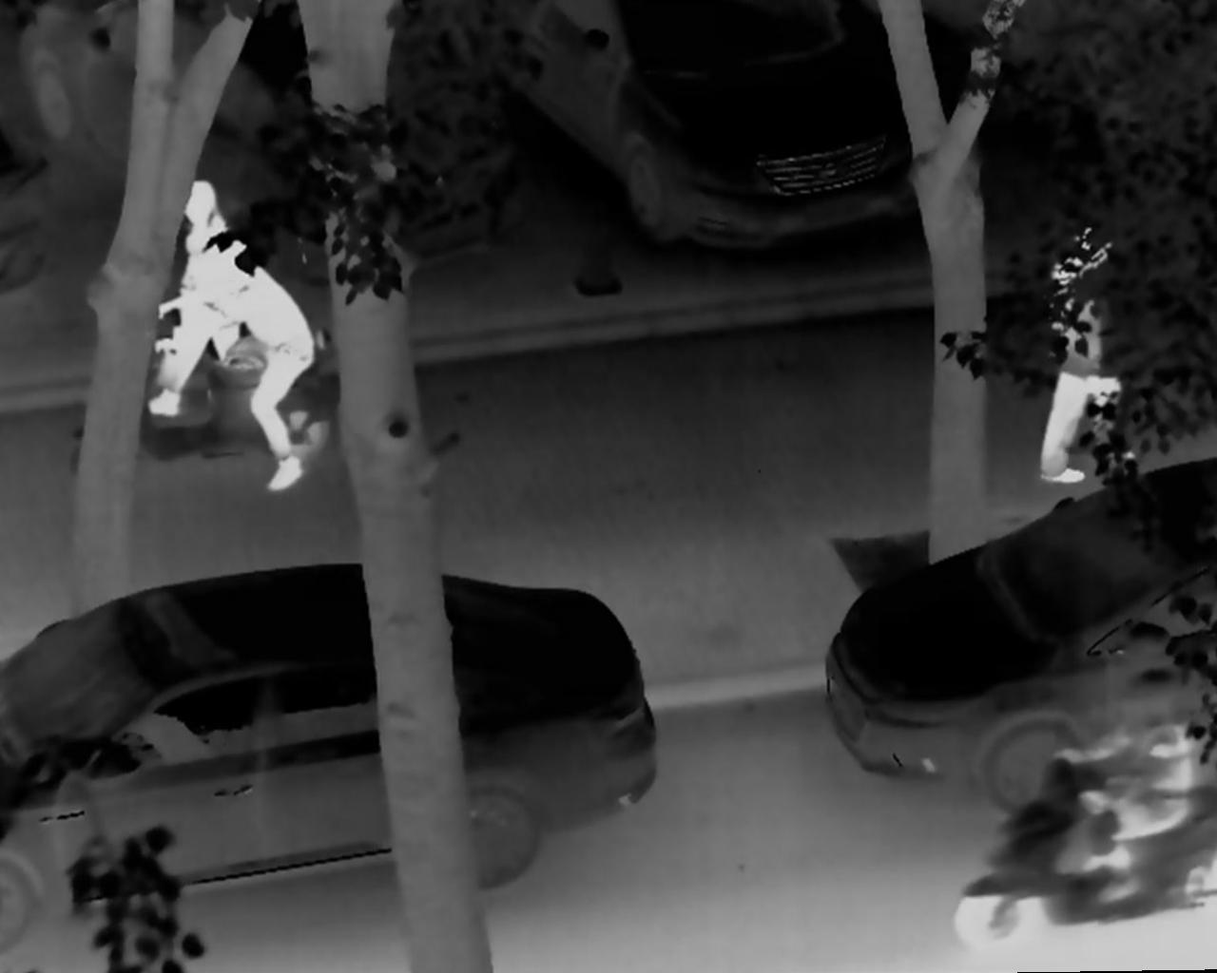person: (154, 234, 313, 491), (1060, 658, 1194, 918), (1030, 200, 1149, 486), (144, 178, 245, 422)
